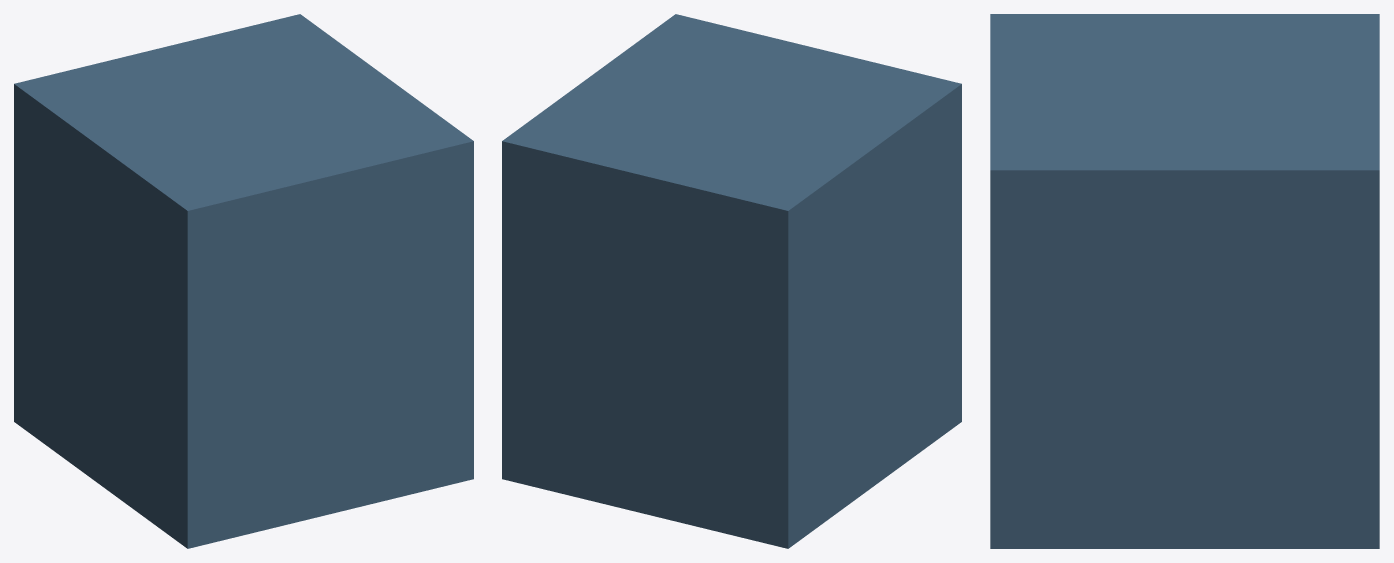
3 views of the same model, side by side, from view 1: azimuth 30°, elevation 25°; view 2: azimuth 150°, elevation 25°; view 3: azimuth 270°, elevation 25° (orthographic). The views are drawn at different scales.
Parts seen in each view (by area): view 1: compact-armchair; view 2: compact-armchair; view 3: compact-armchair.
Part boxes in pixels (left/top/right/bottom): compact-armchair: left=14, top=14, right=473, bottom=548; compact-armchair: left=502, top=14, right=961, bottom=548; compact-armchair: left=990, top=14, right=1379, bottom=548.
Bounding box in the file's own units: 0.78 × 0.88 × 0.82.
